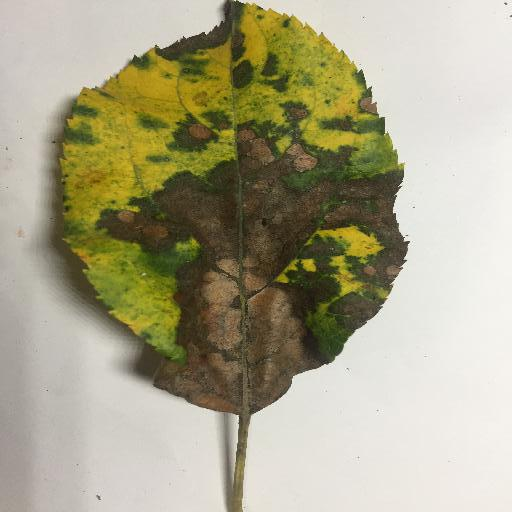Brown_Spot: (66, 147, 422, 426), (231, 123, 273, 157), (351, 97, 385, 118), (185, 121, 213, 138)
